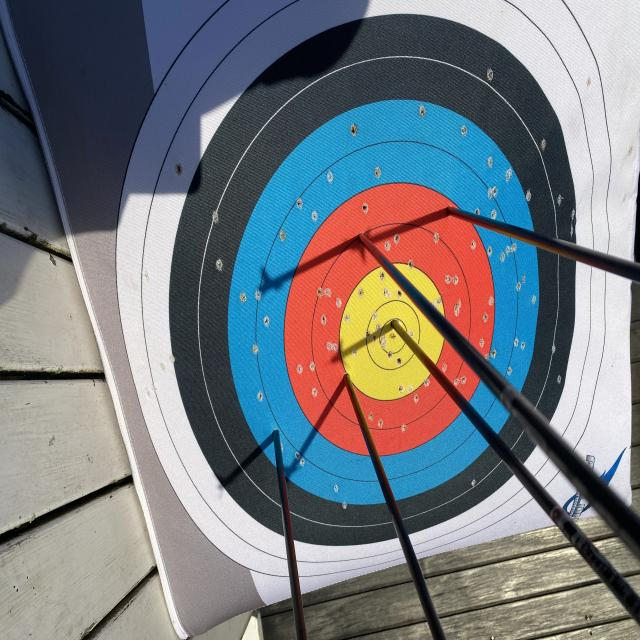Arrow_Blue: (265, 412, 295, 473)
Arrow_Red: (340, 208, 378, 264), (428, 184, 470, 232), (337, 364, 368, 407)
Arrow_Yellow: (382, 302, 412, 352)
